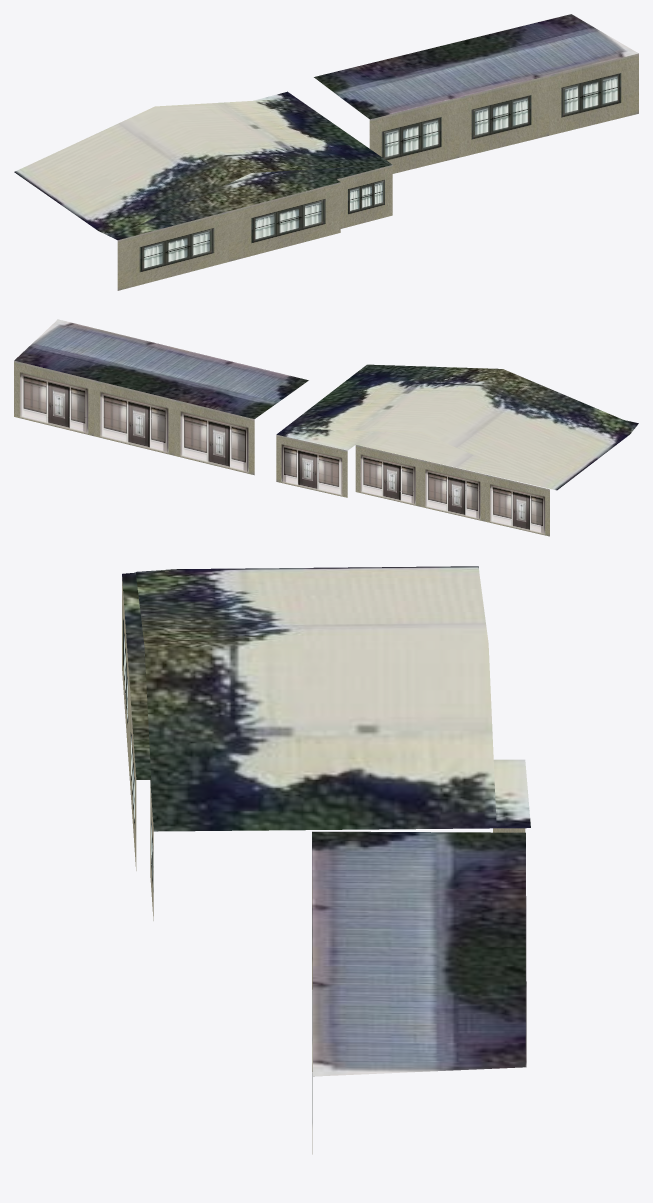
File: tile_LOD8_r1_c3.glb
The picture shows the model from 3 angles, top to bottom: view 1: azimuth 30°, elevation 25°; view 2: azimuth 150°, elevation 25°; view 3: azimuth 270°, elevation 25°; orthographic projection. The views are drawn at different scales.
Bounding box in the file's own units: 43.82 × 5.73 × 14.35.
Materials: 5 (5 with a texture image).
